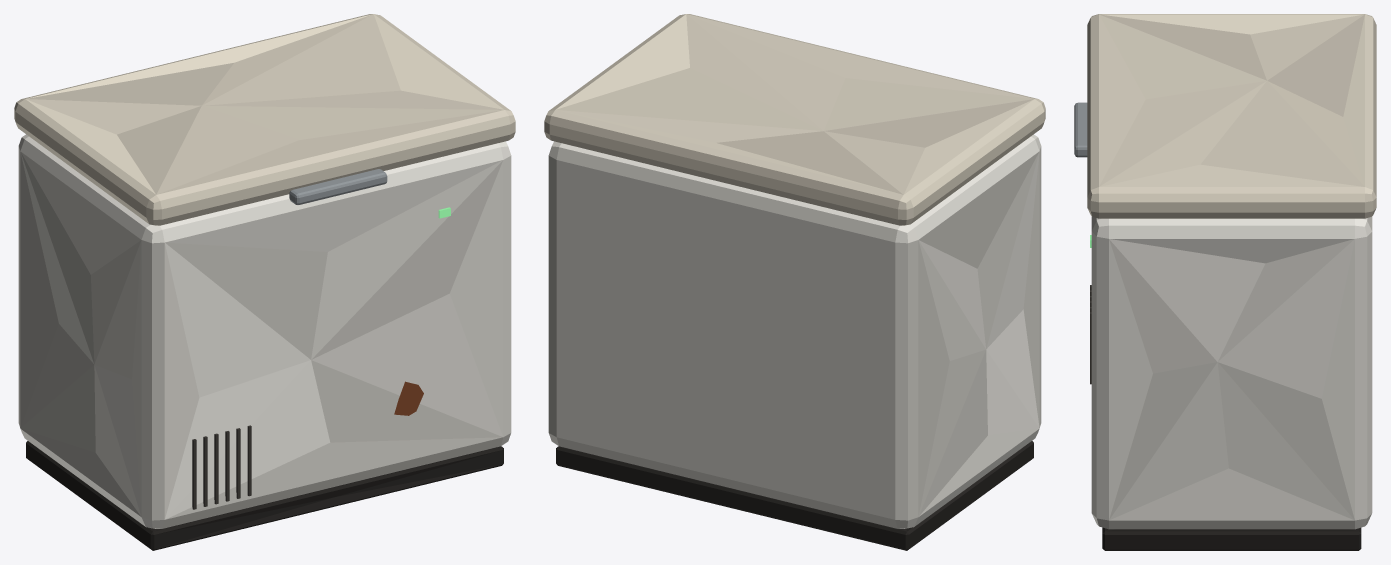
The model's file is fridge_morozilnaya_kamera_idle.glb.
The picture shows the model from 3 angles, left to right: view 1: azimuth 30°, elevation 25°; view 2: azimuth 150°, elevation 25°; view 3: azimuth 270°, elevation 25°; orthographic projection.
Parts seen in each view (by area): view 1: fridge_morozilnaya_kamera_idle; view 2: fridge_morozilnaya_kamera_idle; view 3: fridge_morozilnaya_kamera_idle.
Boxes of the visible parts, bbox=[...] form: fridge_morozilnaya_kamera_idle: bbox=[14, 14, 515, 550]; fridge_morozilnaya_kamera_idle: bbox=[544, 14, 1045, 550]; fridge_morozilnaya_kamera_idle: bbox=[1074, 14, 1376, 550].
Bounding box in the file's own units: 1 × 0.93 × 0.7.
Materials: 2 (2 with a texture image).
